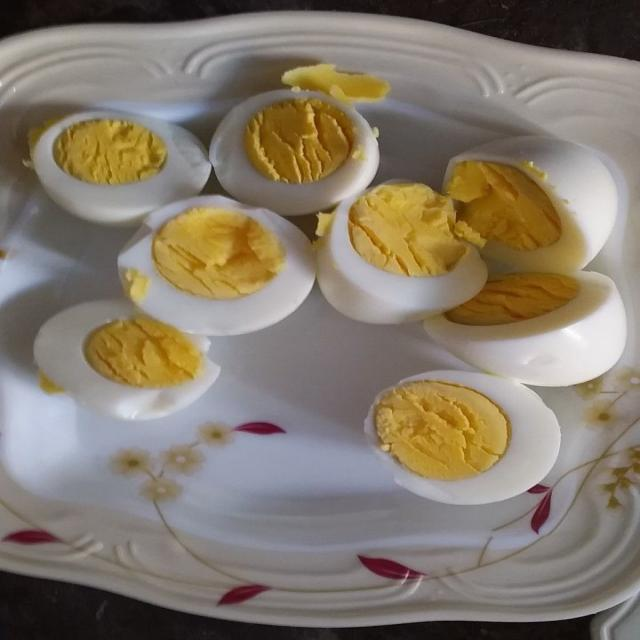eggs: (65, 89, 628, 508)
